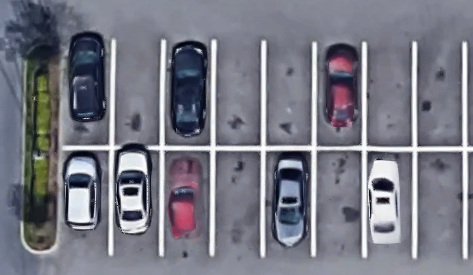Occupied: (62, 39, 113, 148), (163, 38, 213, 149), (263, 148, 314, 256), (61, 146, 111, 255), (365, 149, 415, 258), (112, 148, 162, 256), (314, 41, 364, 148), (163, 147, 212, 256)
Vacant: (264, 40, 315, 148), (363, 41, 414, 149), (416, 148, 466, 258), (213, 40, 263, 148), (213, 148, 263, 256), (113, 38, 162, 148), (315, 148, 364, 256), (415, 42, 464, 148)
